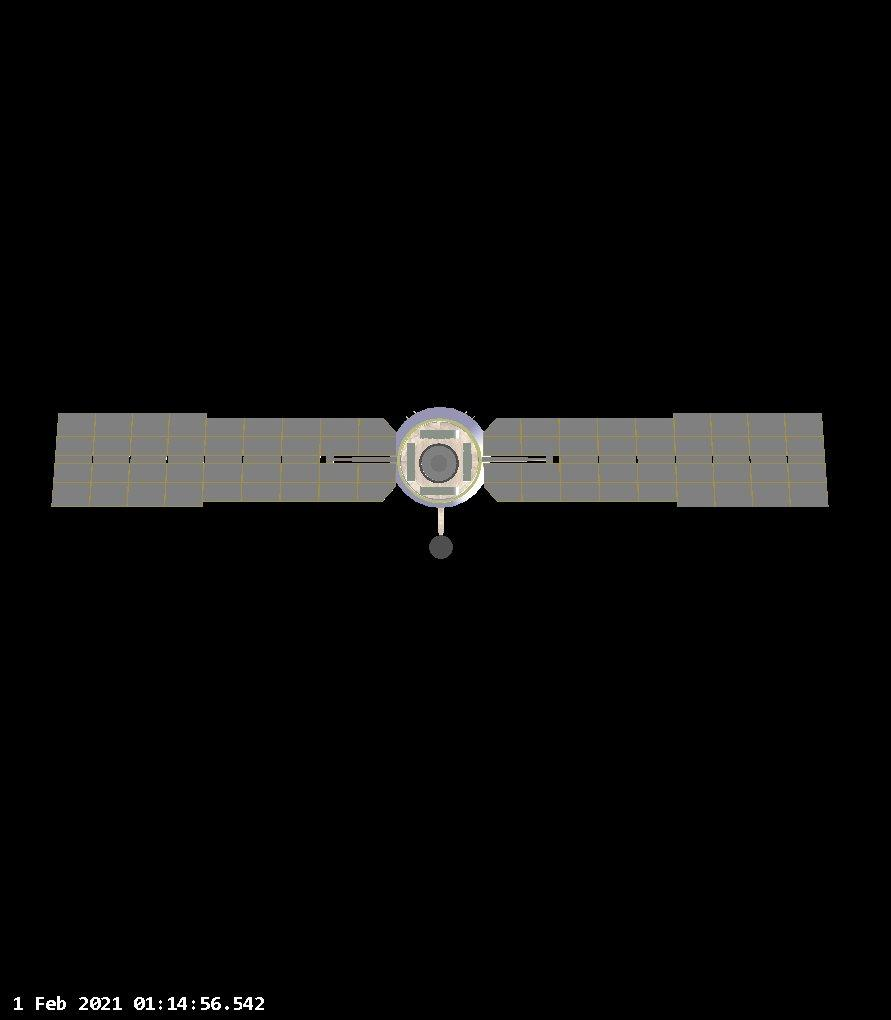antenna: (428, 534, 455, 561)
body: (396, 404, 488, 509)
solar: (47, 406, 401, 511), (480, 406, 831, 510)
